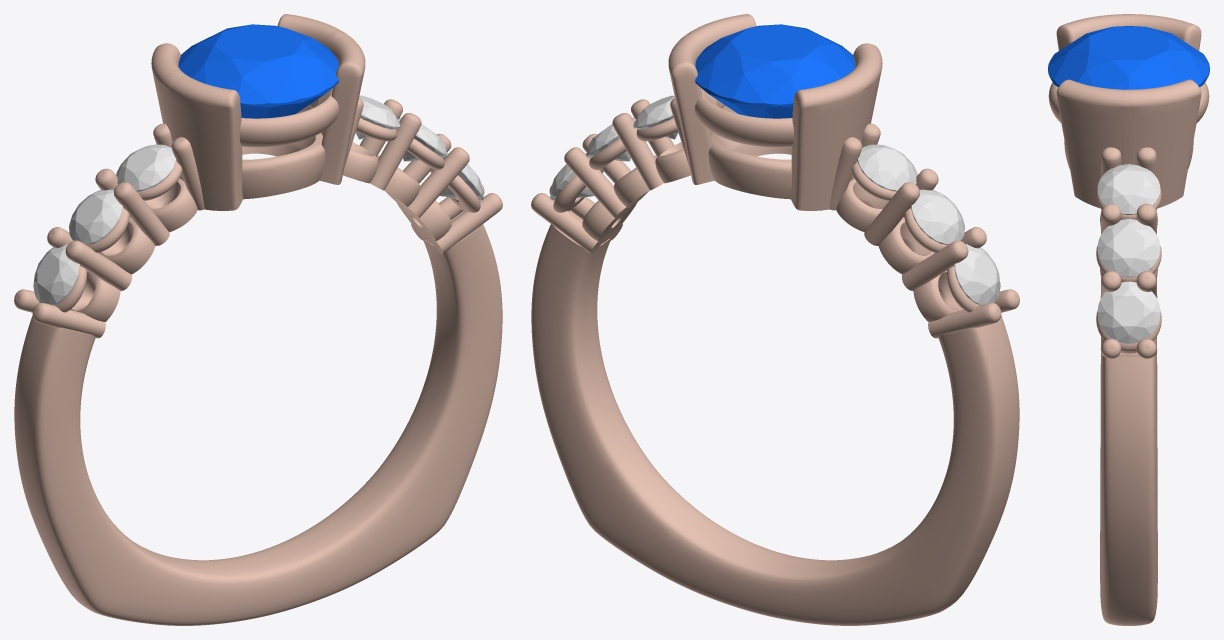
The model's file is bluesapphire-round-rosegold-halfmoonbezel-europeanshank-3stone.glb.
The picture shows the model from 3 angles, left to right: view 1: azimuth 30°, elevation 25°; view 2: azimuth 150°, elevation 25°; view 3: azimuth 270°, elevation 25°; orthographic projection. The views are drawn at different scales.
Visible parts, largest first — view 1: metal, stone, side.002, side.003, side.001, side.004, side.005; view 2: metal, stone, side.002, side.003, side.001, side.004, side.005; view 3: metal, stone, side, side.005, side.004.
Part boxes in pixels (x1,y1,x2,y2): metal: (14, 14, 502, 625); stone: (178, 24, 338, 118); side.002: (69, 189, 122, 244); side.003: (116, 144, 176, 191); side.001: (33, 244, 79, 305); side.004: (355, 95, 400, 139); side.005: (398, 117, 447, 161); metal: (531, 14, 1019, 625); stone: (695, 24, 855, 118); side.002: (911, 189, 964, 244); side.003: (857, 144, 917, 191); side.001: (954, 244, 1000, 305); side.004: (633, 95, 678, 139); side.005: (586, 117, 636, 161); metal: (1048, 14, 1209, 625); stone: (1048, 26, 1209, 89); side: (1097, 281, 1160, 343); side.005: (1097, 219, 1160, 277); side.004: (1097, 164, 1160, 214).
Bounding box in the file's own units: 20.71 × 23.81 × 6.44.
